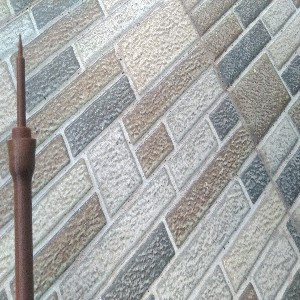solder: (5, 32, 37, 300)
